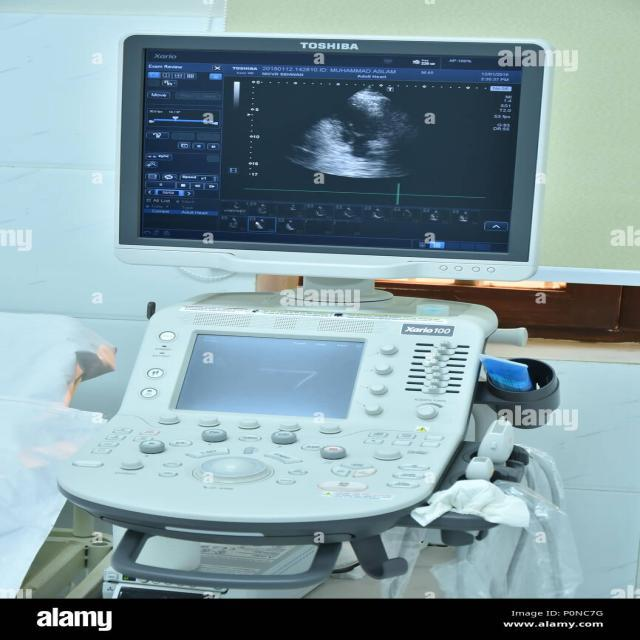Monitor: (57, 28, 612, 640)
